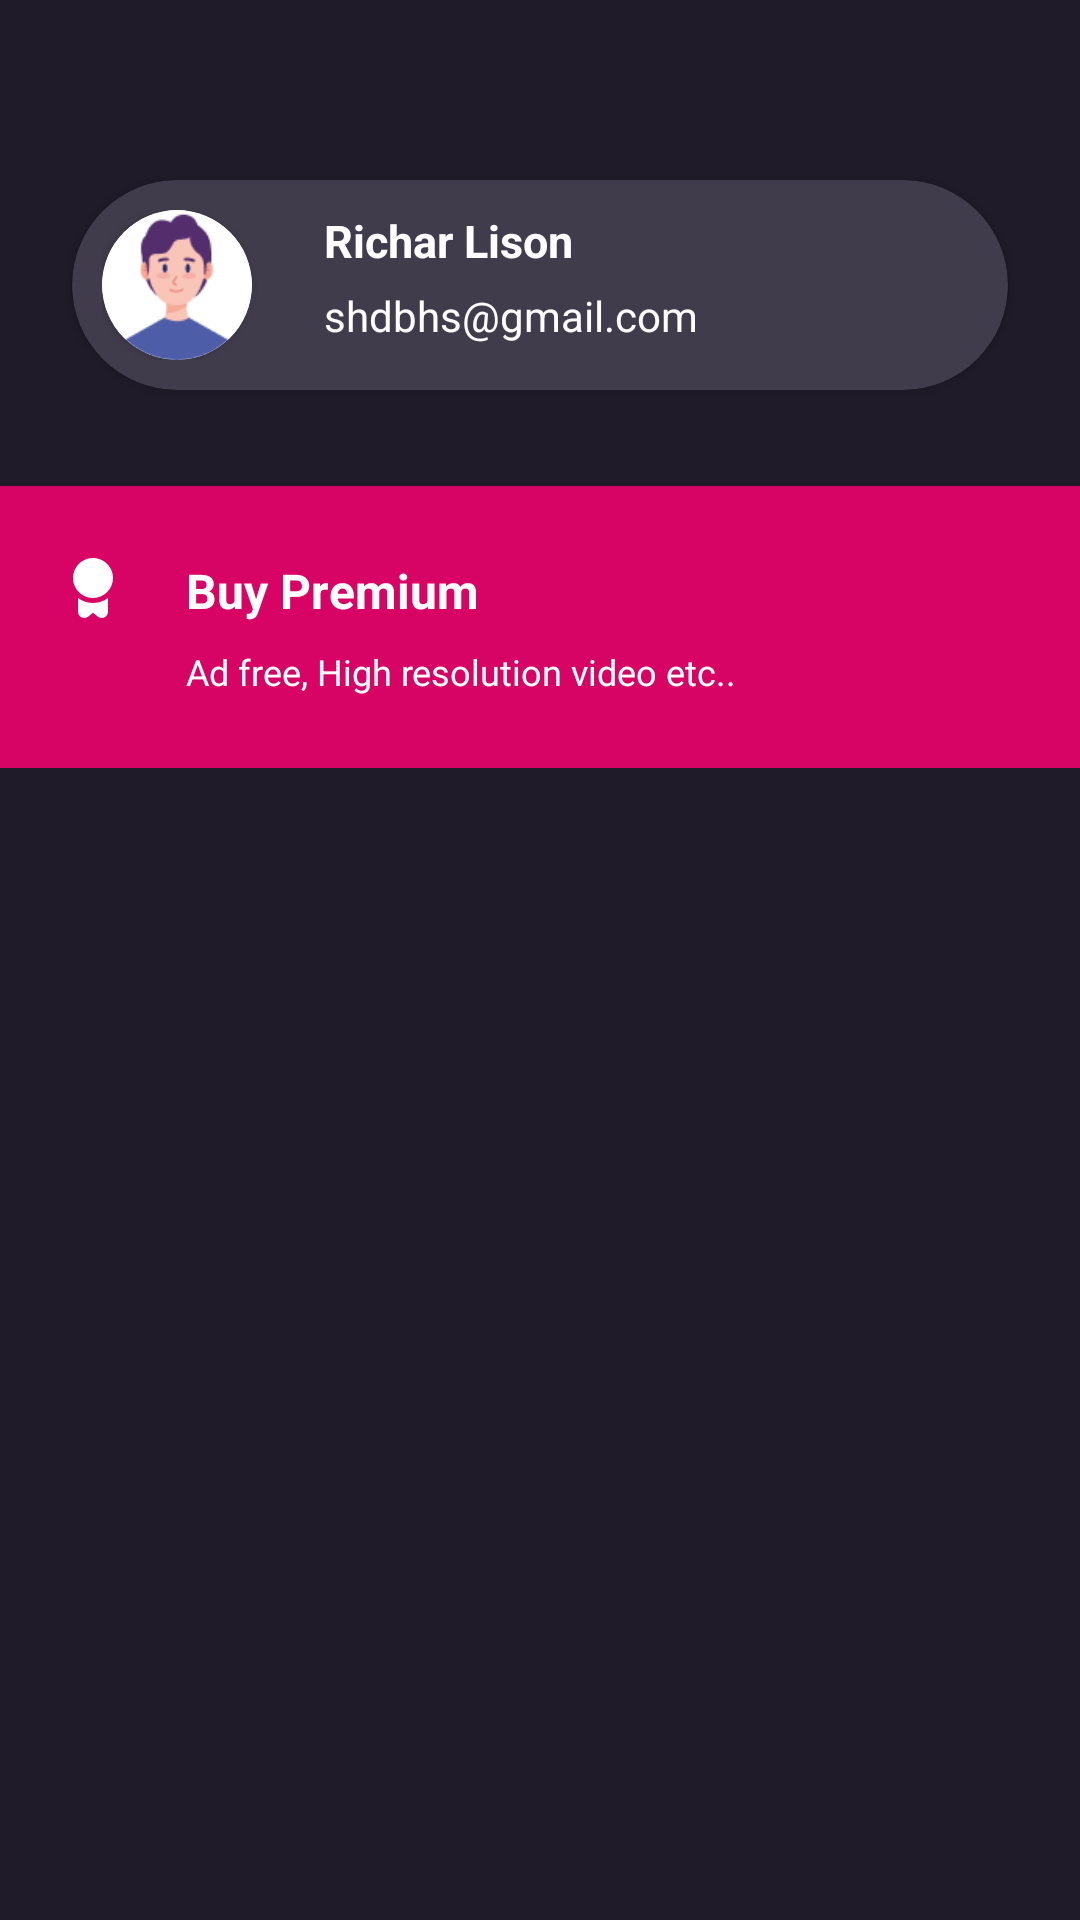

Screen size 1080x1920. Icon name, then its center in pixels as (x=x, y=y):
profiles: (x=177, y=285)
